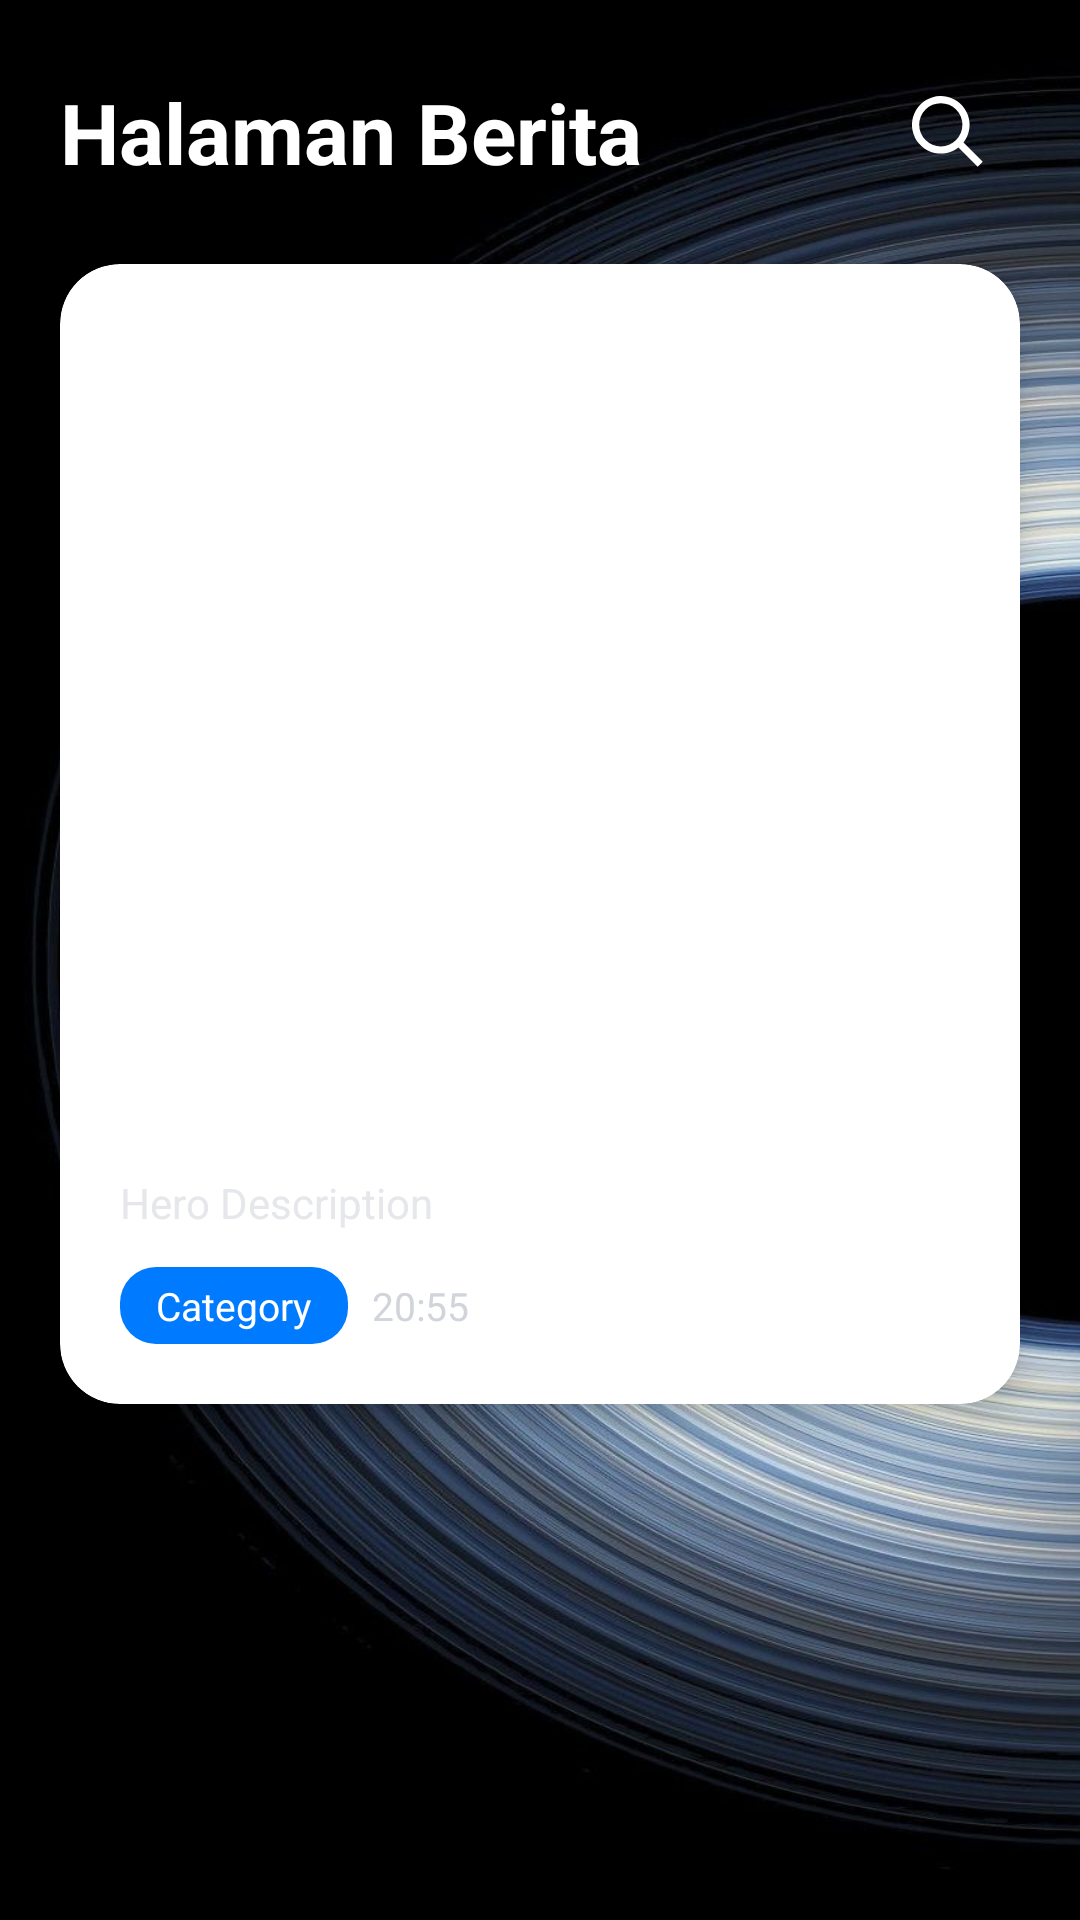

Icon click points for this 1080w x 1920h phone screenshot, format (x,y):
Search: (948,132)
